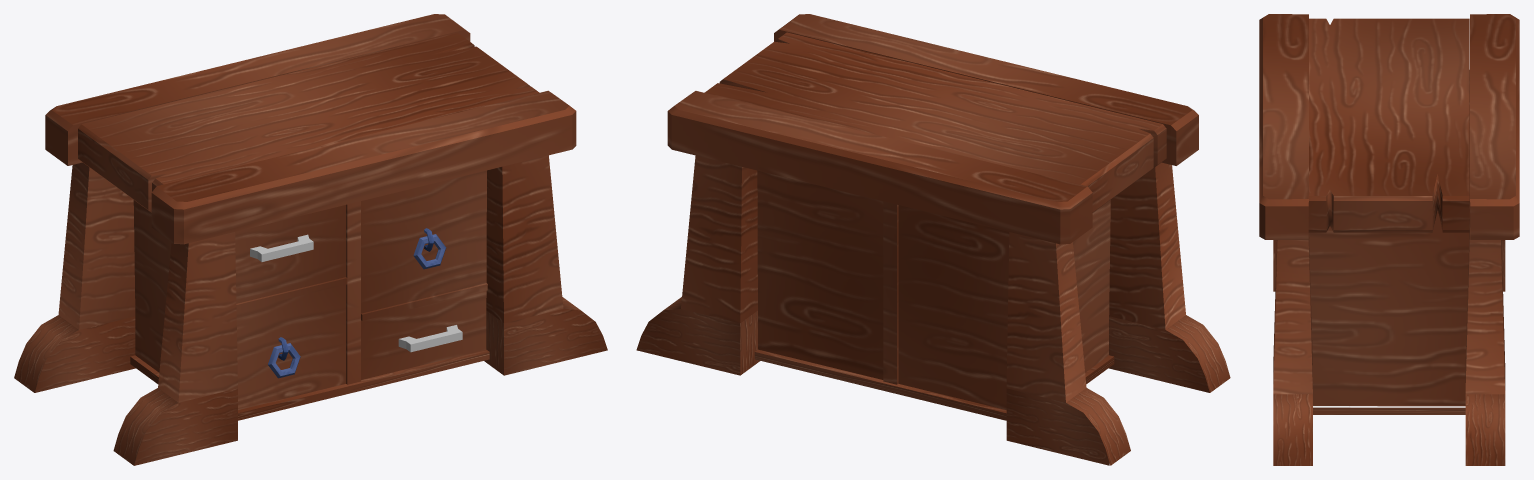
File: NightstandVar1.fbx
3 views of the same model, side by side, from view 1: azimuth 30°, elevation 25°; view 2: azimuth 150°, elevation 25°; view 3: azimuth 270°, elevation 25° (orthographic). The views are drawn at different scales.
Parts seen in each view (by area): view 1: NightstandVar1; view 2: NightstandVar1; view 3: NightstandVar1.
Boxes of the visible parts, box(x1,y1,x2,y2) form: NightstandVar1: box(14, 14, 607, 465); NightstandVar1: box(636, 14, 1230, 465); NightstandVar1: box(1259, 14, 1519, 465).
Size of the model in its own units: 190 by 98.29 by 93.66.
